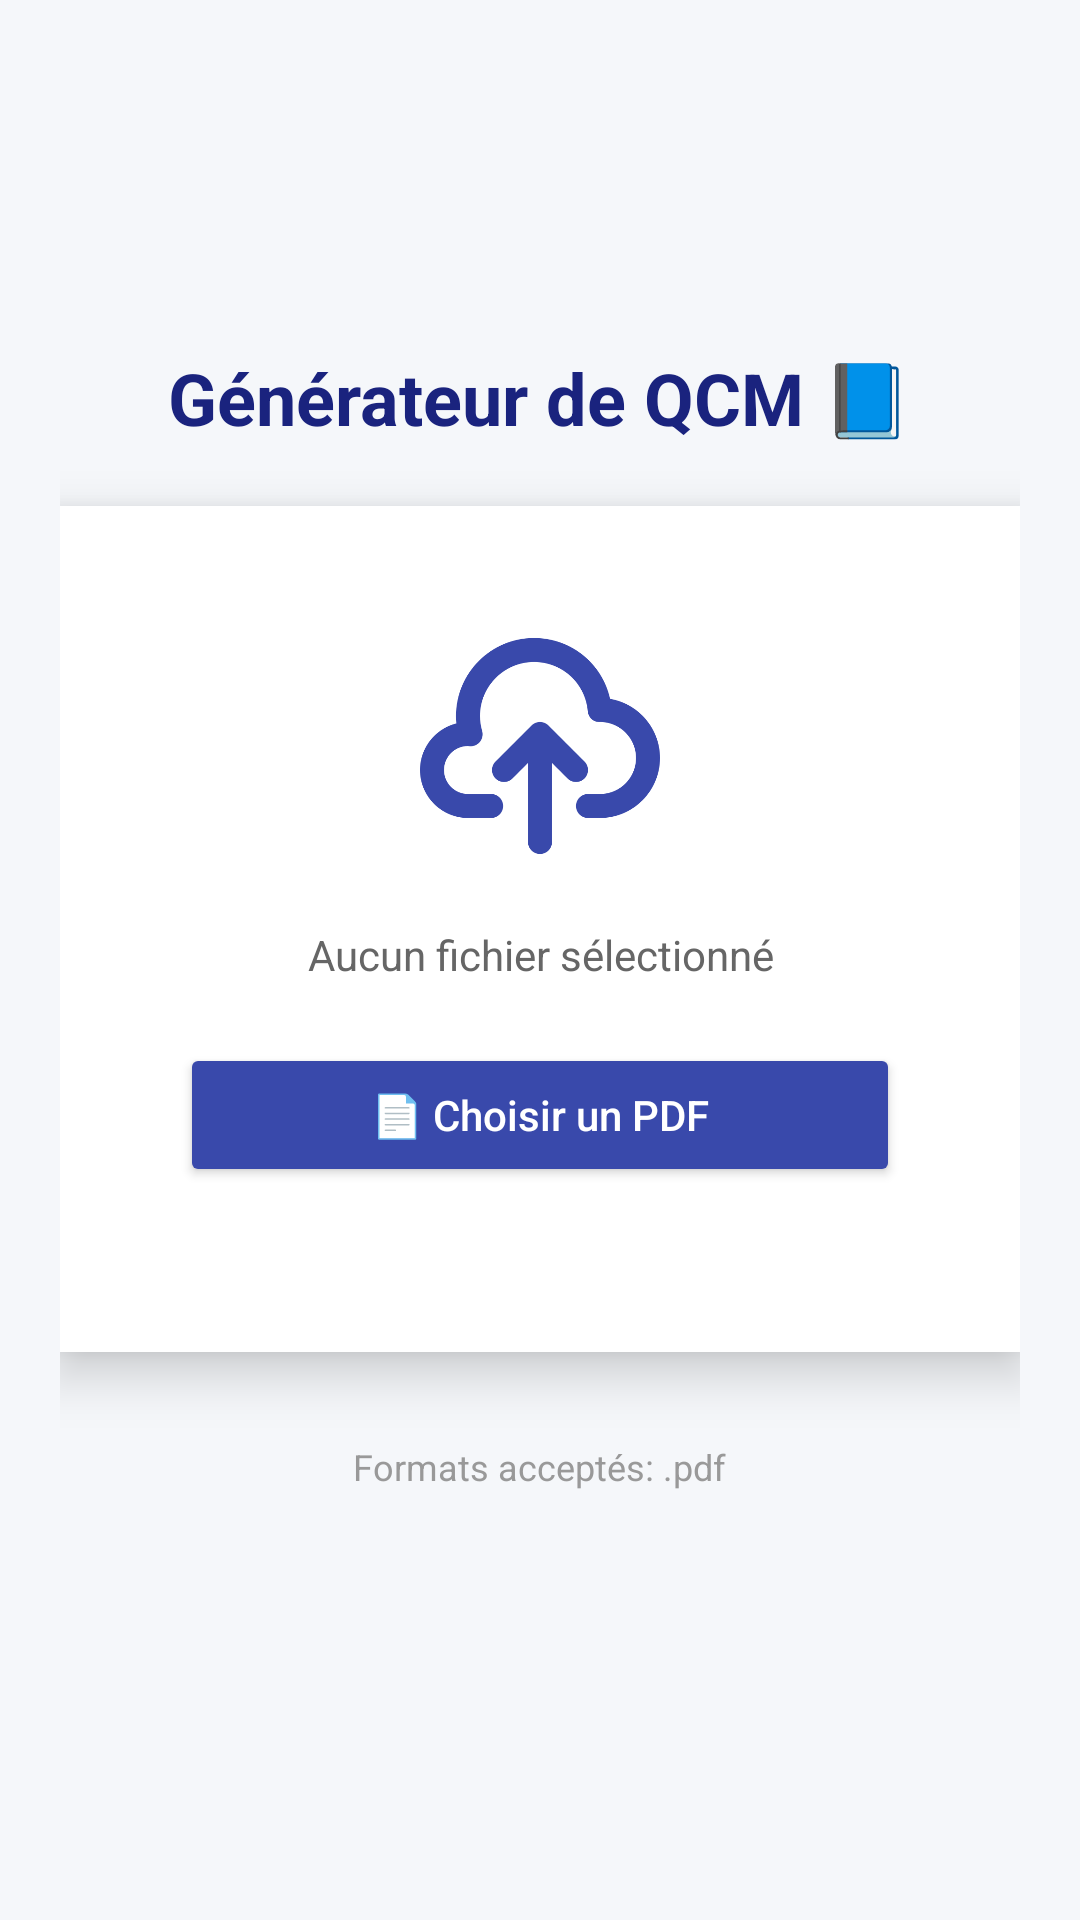

Named icons in this screenshot (1080 × 1920) and their bounding boxes, region(x1, y1, x2, y2):
upload: region(420, 638, 660, 854)
